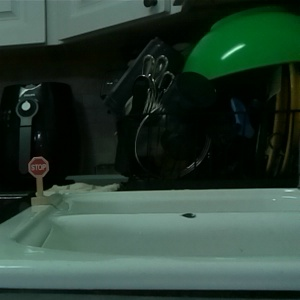stop sign: (26, 155, 51, 205)
